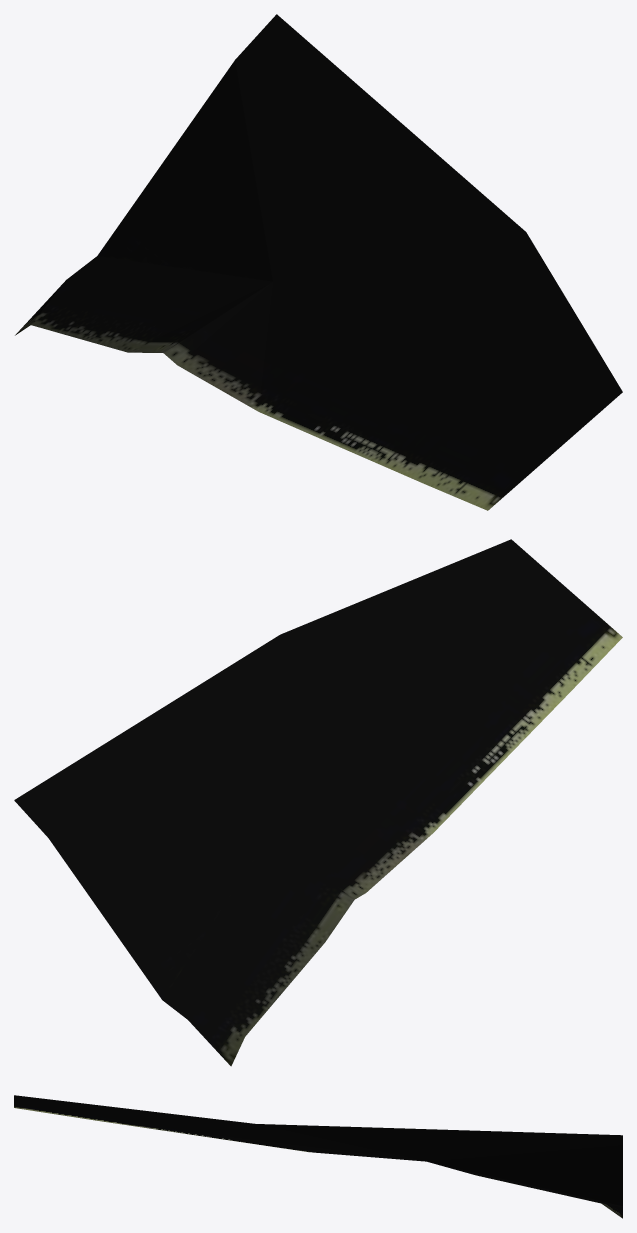
The picture shows the model from 3 angles, top to bottom: view 1: azimuth 30°, elevation 25°; view 2: azimuth 150°, elevation 25°; view 3: azimuth 270°, elevation 25°; orthographic projection. The views are drawn at different scales.
Bounding box in the file's own units: 3.78 × 3.55 × 11.8.
Materials: 1 (1 with a texture image).
